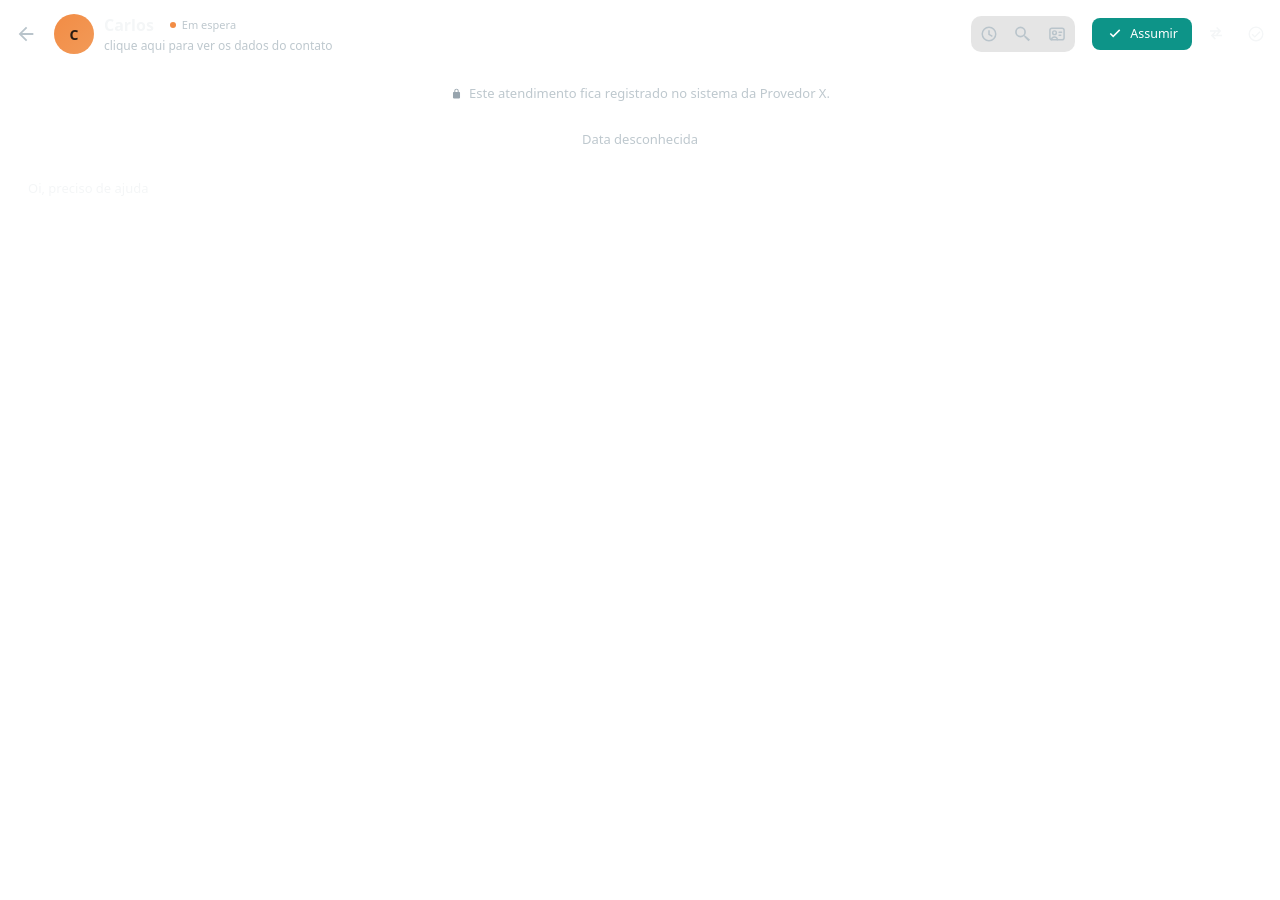
Test: ConversationView › clicking the contact name/avatar opens the edit-contact modal
Step 1. Click the button with aria-label "editar cliente" → click(74, 34), box [50,10,959,58]
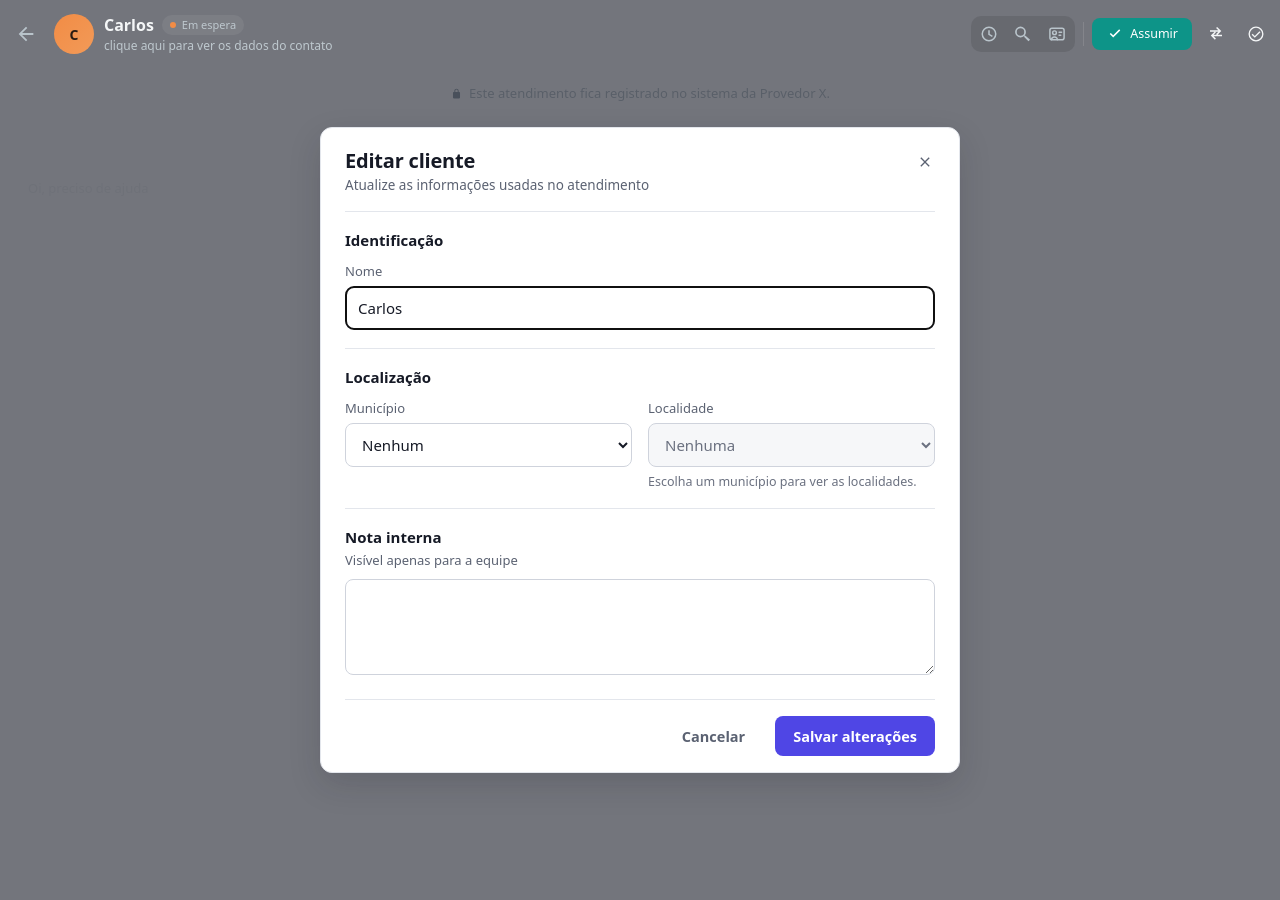
Result: the heading "Editar cliente" is shown at [345,147,475,174]
